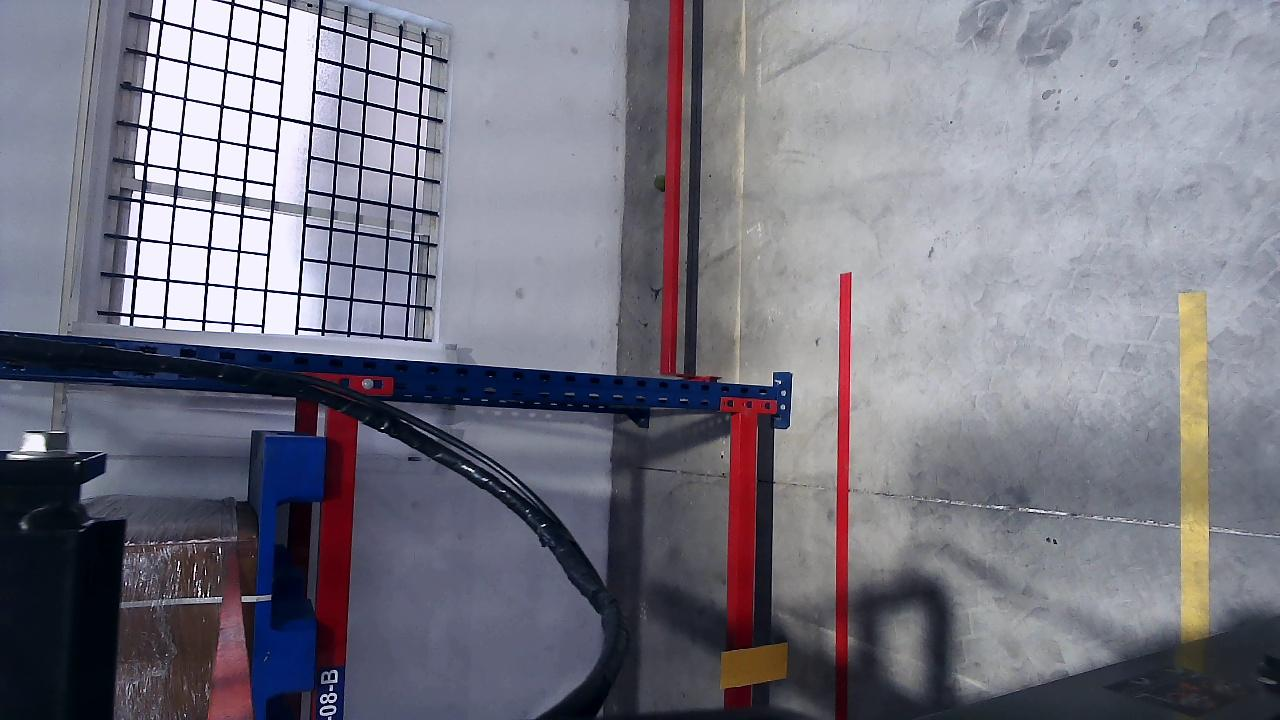h_rack: (307, 381, 363, 713), (729, 411, 760, 711)
orange_strip: (719, 643, 788, 688)
red_line: (835, 269, 850, 720)
small_pallet: (248, 436, 328, 717)
yellow_line: (1177, 290, 1210, 640)
